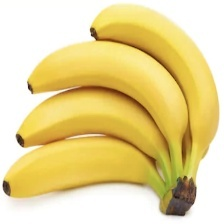banana: (0, 0, 200, 197)
